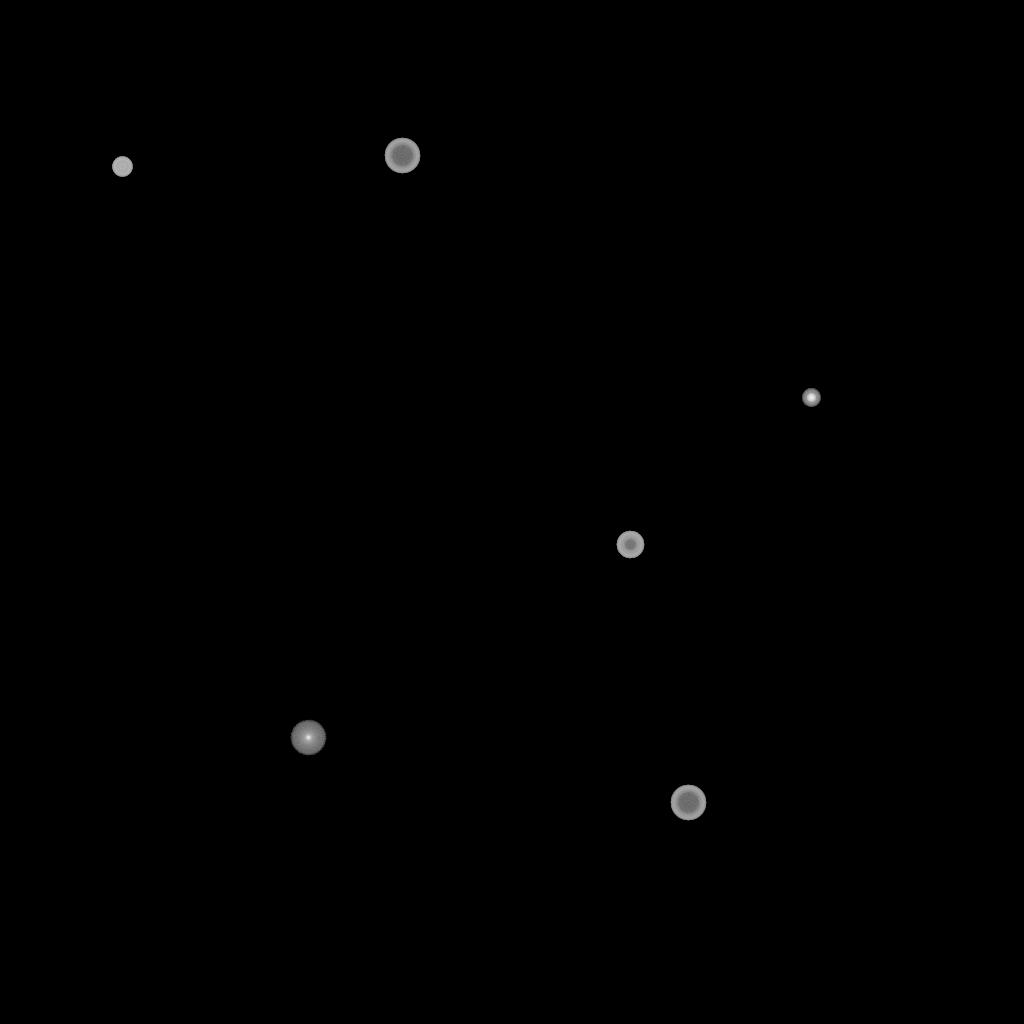depth:-20: (802, 389, 820, 407)
depth:-40: (112, 157, 132, 177)
depth:-50: (616, 531, 644, 559)
depth:-60: (670, 785, 706, 821), (384, 138, 420, 174)
depth:0: (290, 720, 326, 756)
